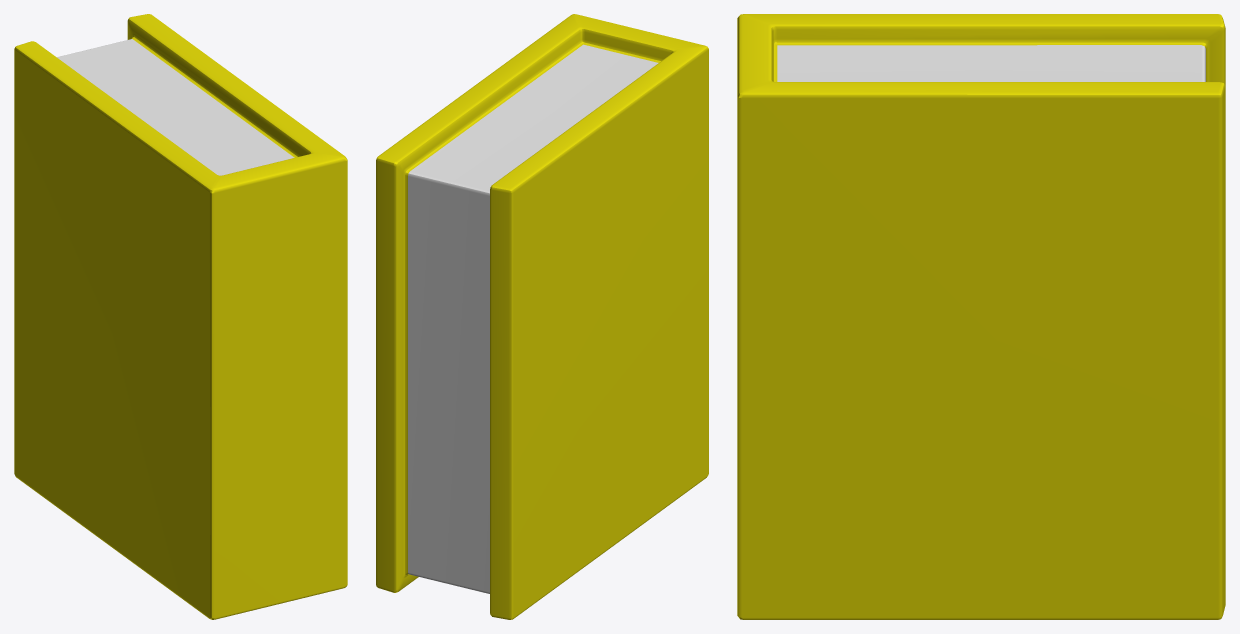
Rendered from YellowBook.fbx.
The picture shows the model from 3 angles, left to right: view 1: azimuth 30°, elevation 25°; view 2: azimuth 150°, elevation 25°; view 3: azimuth 270°, elevation 25°; orthographic projection. The views are drawn at different scales.
Parts seen in each view (by area): view 1: pCube19; view 2: pCube19; view 3: pCube19.
Part boxes in pixels (box(x1,y1,x2,y2)): pCube19: box(14, 14, 347, 619); pCube19: box(376, 14, 708, 619); pCube19: box(737, 14, 1225, 619).
Bounding box in the file's own units: 0.6003 × 1.8 × 1.51.
